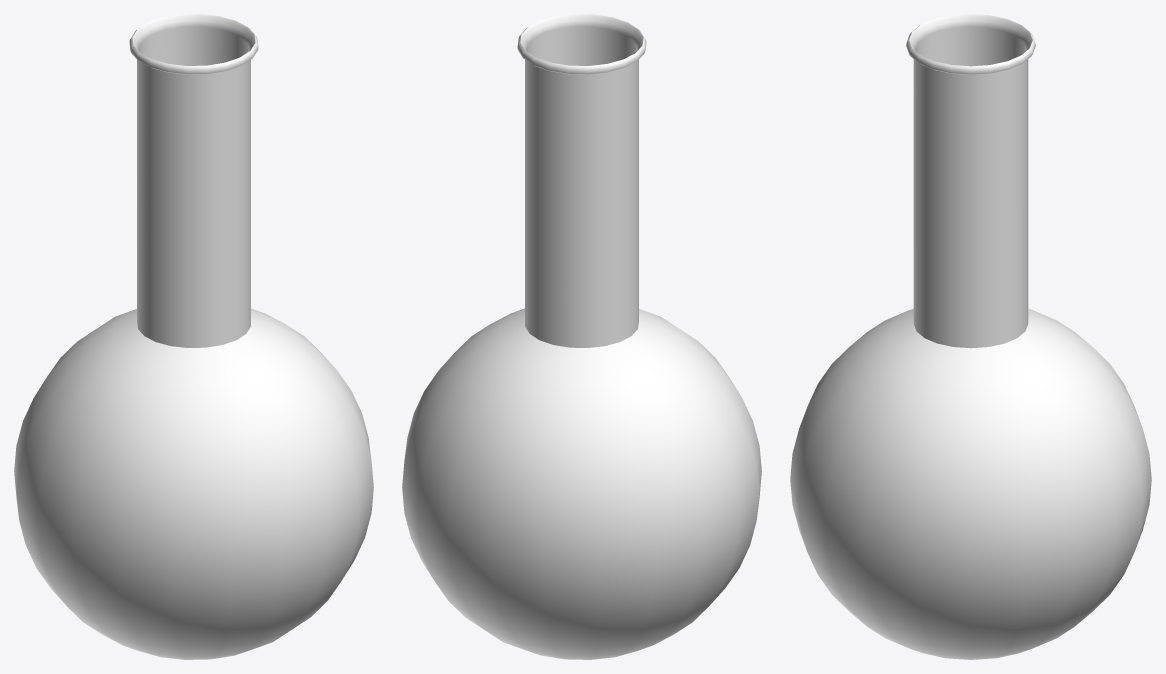
File: florence_flask.fbx
3 views of the same model, side by side, from view 1: azimuth 30°, elevation 25°; view 2: azimuth 150°, elevation 25°; view 3: azimuth 270°, elevation 25° (orthographic).
Visible parts, largest first — view 1: florence_flask1; view 2: florence_flask1; view 3: florence_flask1.
Part boxes in pixels (x1,y1,x2,y2): florence_flask1: (14, 14, 373, 659); florence_flask1: (402, 14, 761, 659); florence_flask1: (790, 14, 1151, 659).
Size of the model in its own units: 14.2 by 26.14 by 14.2.
